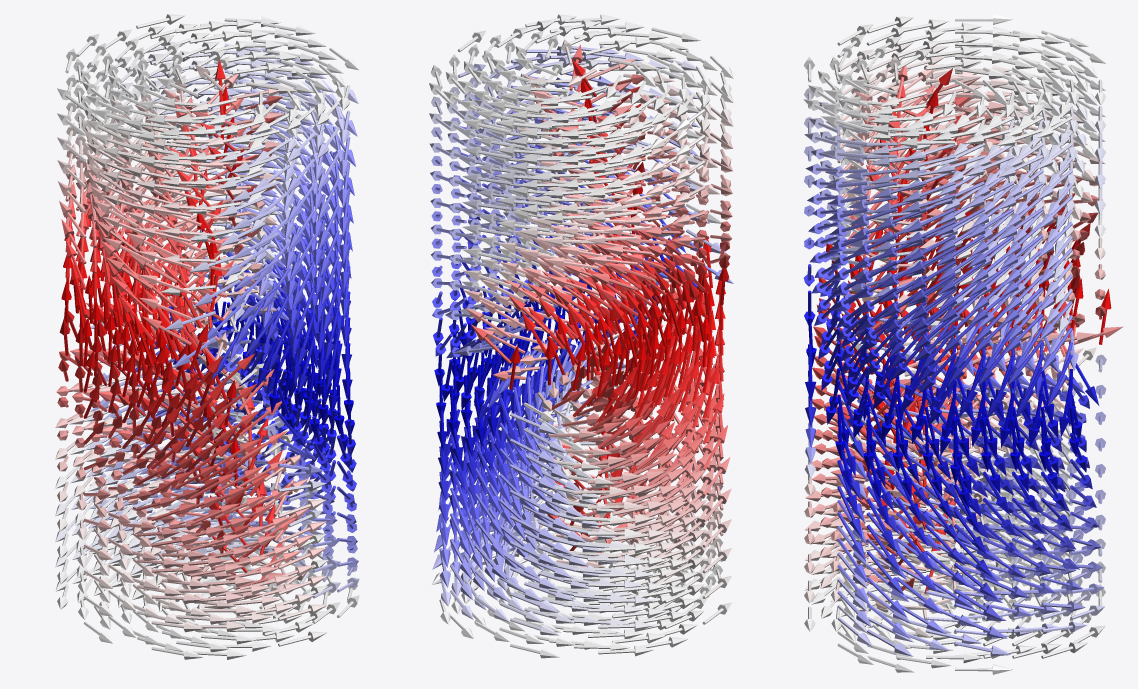
3 views of the same model, side by side, from view 1: azimuth 30°, elevation 25°; view 2: azimuth 150°, elevation 25°; view 3: azimuth 270°, elevation 25° (orthographic). The views are drawn at different scales.
Visible parts, largest first — view 1: Renderer Node; view 2: Renderer Node; view 3: Renderer Node.
Part boxes in pixels (left/top/right/bottom): Renderer Node: left=55, top=14, right=359, bottom=659; Renderer Node: left=429, top=14, right=733, bottom=658; Renderer Node: left=803, top=14, right=1123, bottom=674.
Size of the model in its own units: 104 by 209 by 110.
Materials: 1 (1 with a texture image).
